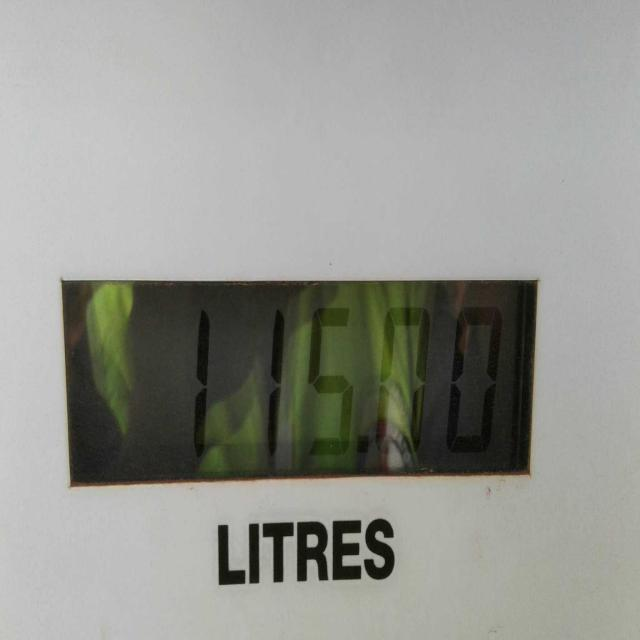.: (349, 414, 379, 480)
0: (438, 305, 510, 476), (371, 300, 436, 469)
1: (178, 296, 229, 459), (254, 298, 301, 472)
5: (304, 292, 360, 470)
